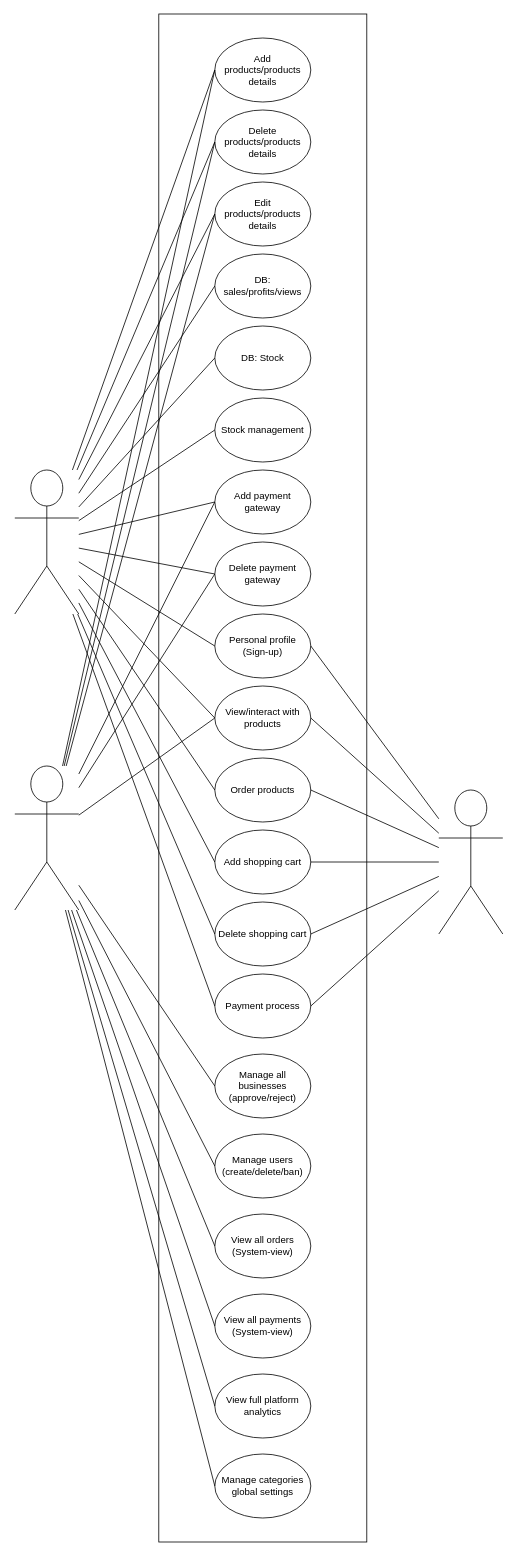
This 517x1556 diagram has some shape labels left out. Each missing label, with the box of its shape:
Clients: (438, 789, 503, 934)
Owners (Factory - Shop Supplier): (14, 469, 79, 614)
Superuser (Admin): (14, 765, 79, 910)
